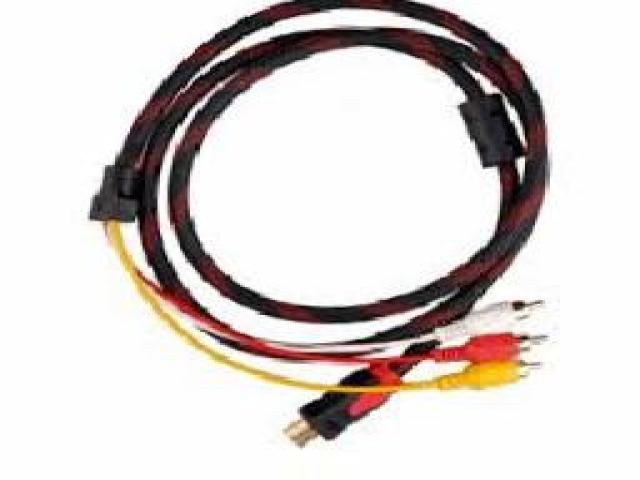wire: (89, 0, 549, 445)
